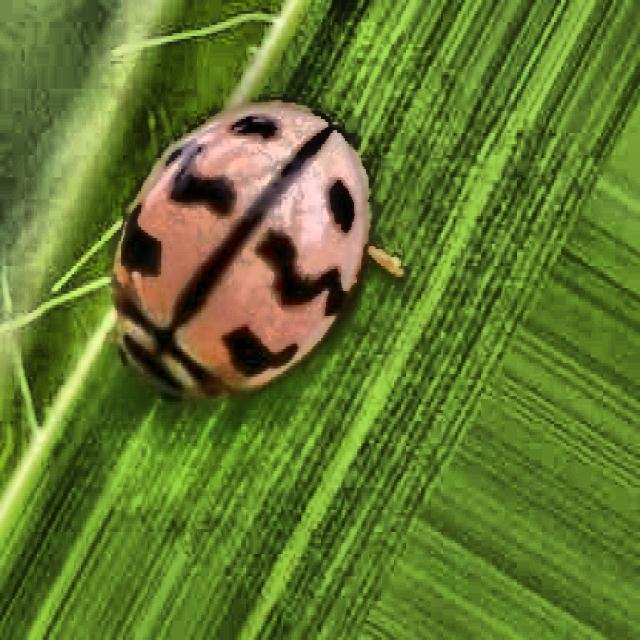Asian-Lady-beetle: (76, 60, 396, 452)
